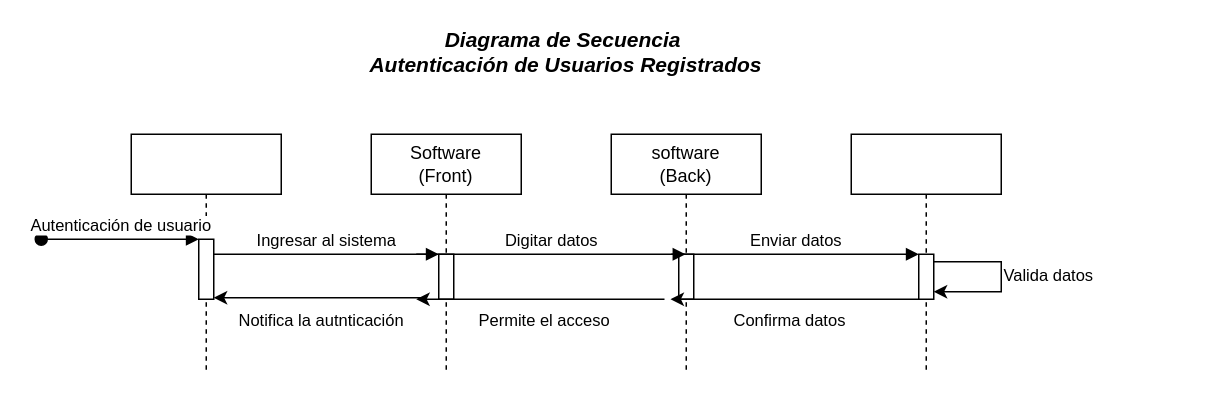
This 1208x401 diagram has some shape labels left out. The centre of each missing label's shape, as x and y in pixels:
"Mongo DB" goes at (x=925, y=253).
"Usuario" goes at (x=205, y=253).
